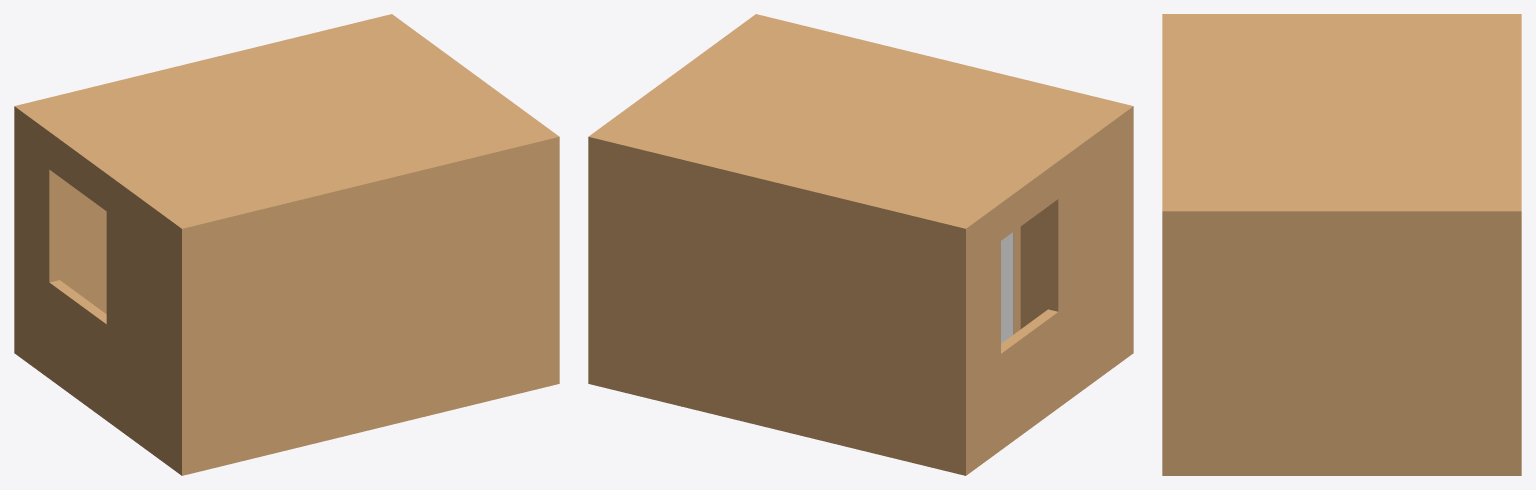
File: S_CouloirU3.glb
3 views of the same model, side by side, from view 1: azimuth 30°, elevation 25°; view 2: azimuth 150°, elevation 25°; view 3: azimuth 270°, elevation 25° (orthographic). The views are drawn at different scales.
Parts seen in each view (by area): view 1: murAvecFenetre, Plane.005; view 2: murAvecFenetre, Plane.005, Plane.009, Cube.002, Plane.008; view 3: murAvecFenetre, Plane.005.
Boxes of the visible parts, x1,y1,x2,y2 form: murAvecFenetre: [14, 14, 559, 475]; Plane.005: [31, 21, 542, 221]; murAvecFenetre: [588, 14, 1133, 475]; Plane.005: [605, 21, 1116, 221]; Plane.009: [1020, 212, 1041, 328]; Cube.002: [1001, 232, 1013, 343]; Plane.008: [1017, 207, 1047, 331]; murAvecFenetre: [1162, 14, 1521, 475]; Plane.005: [1176, 19, 1507, 205].
Bounding box in the file's own units: 4.23 × 2.65 × 3.25.
